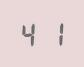four: (19, 20, 41, 47)
one: (42, 19, 64, 46)
